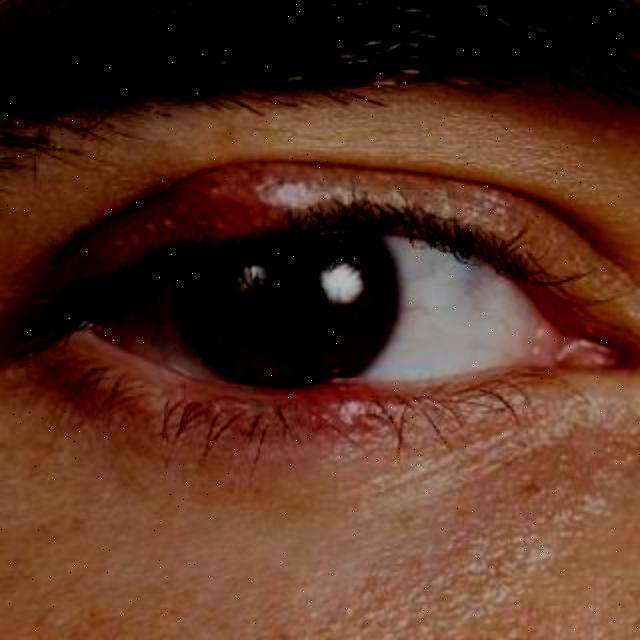Stye: (125, 122, 332, 280)
